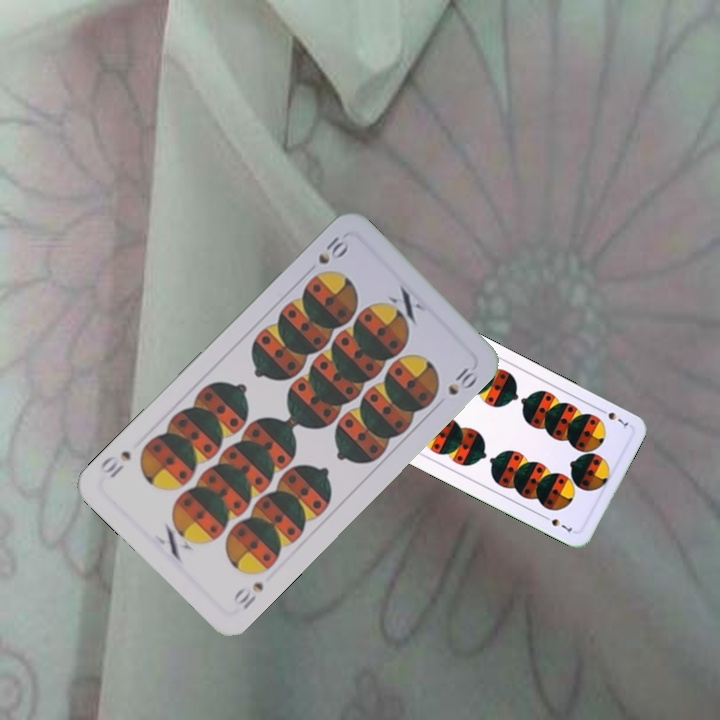S10: (314, 230, 352, 267), (229, 578, 266, 613)
S7: (595, 404, 631, 431)
